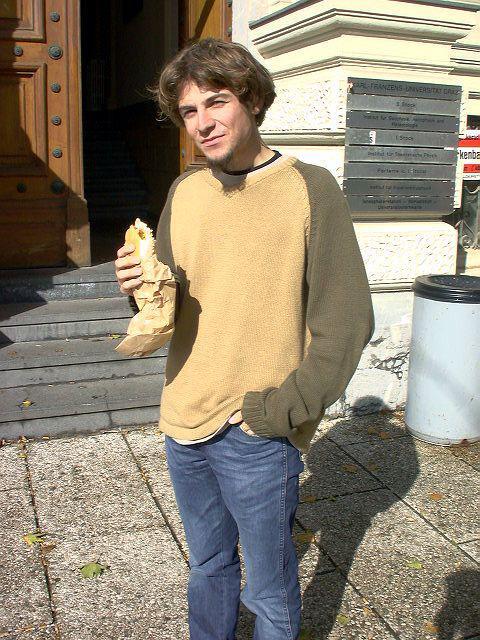Person: (115, 44, 376, 640)
